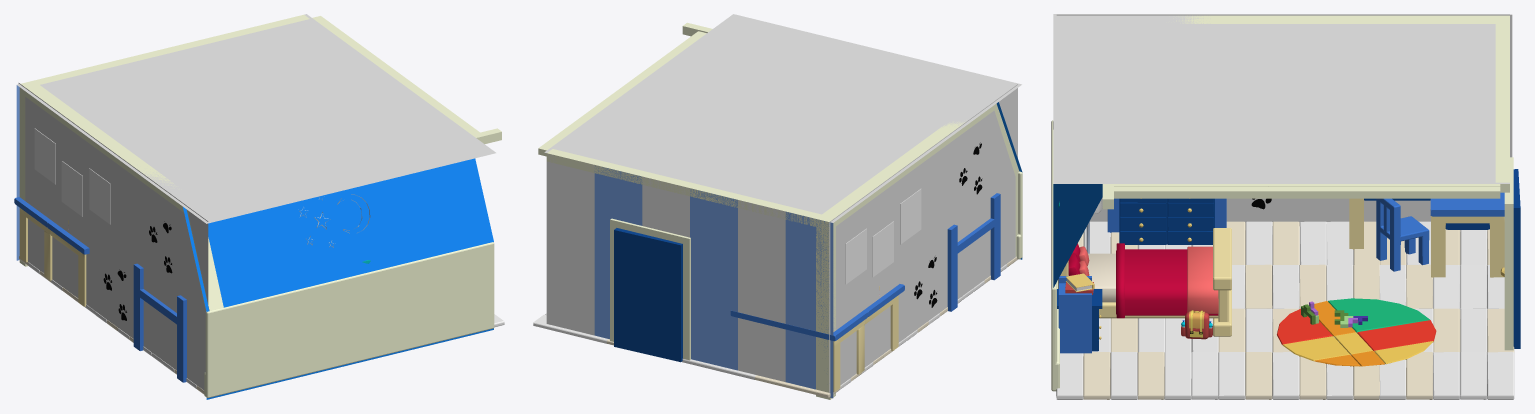
The model's file is Room.fbx.
3 renders of one model, left to right at view 1: azimuth 30°, elevation 25°; view 2: azimuth 150°, elevation 25°; view 3: azimuth 270°, elevation 25°, orthographic. The views are drawn at different scales.
Parts seen in each view (by area): view 1: ceiling, wall_04, wall_03, wall-02, column, table, shelf_01, frame_02, frame_01, frame_03, break_01, floor (+2 smaller); view 2: ceiling, wall_01, wall-02, column, door, table, shelf_01, floor, door_jamb, break_01, frame_01, frame_03 (+3 smaller); view 3: ceiling, floor, carpet, column, wall-02, table, dresser_01, duvet_01, break_01, wall_03, bed, chair (+12 smaller).
Boxes of the visible parts, box(x1,y1,x2,y2) form: ceiling: box(17, 14, 495, 223); wall_04: box(204, 242, 494, 397); wall_03: box(183, 158, 493, 399); wall-02: box(18, 83, 208, 390); column: box(19, 14, 501, 310); table: box(14, 197, 89, 306); shelf_01: box(133, 263, 186, 382); frame_02: box(61, 161, 82, 216); frame_01: box(89, 168, 110, 224); frame_03: box(34, 128, 55, 184); break_01: box(312, 16, 416, 88); floor: box(19, 256, 504, 394); ceiling: box(544, 14, 1021, 222); wall_01: box(546, 153, 833, 398); wall-02: box(829, 84, 1017, 393); column: box(546, 22, 1019, 399); door: box(614, 228, 682, 362); table: box(730, 284, 904, 392); shelf_01: box(947, 193, 1000, 311); floor: box(533, 256, 1017, 397); door_jamb: box(610, 218, 690, 360); break_01: box(538, 78, 642, 156); frame_01: box(900, 189, 921, 244); frame_03: box(845, 228, 866, 284); ceiling: box(1053, 14, 1509, 183); floor: box(1056, 221, 1514, 399); carpet: box(1277, 298, 1436, 366); column: box(1053, 15, 1509, 209); wall-02: box(1056, 14, 1512, 225); table: box(1349, 192, 1504, 277); dresser_01: box(1119, 198, 1214, 244); duvet_01: box(1116, 249, 1218, 315); break_01: box(1266, 186, 1500, 198); wall_03: box(1053, 184, 1102, 287); bed: box(1058, 228, 1231, 336); chair: box(1376, 198, 1429, 271).
Size of the model in its own units: 2250 by 1211 by 2392.
